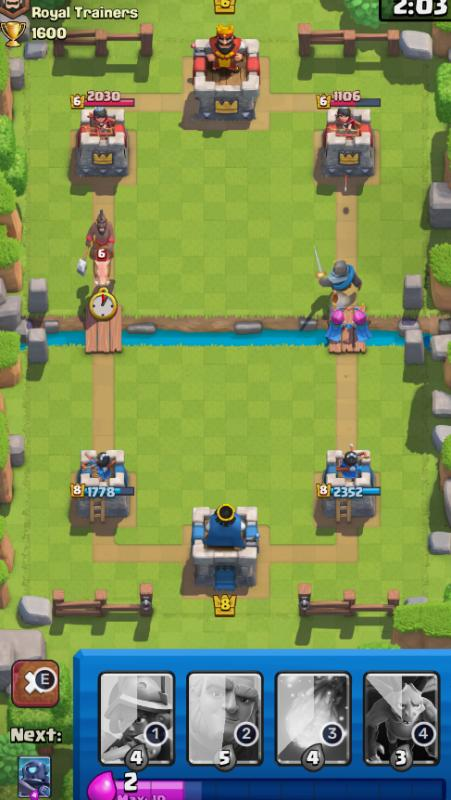archere: (317, 296, 357, 345), (350, 288, 373, 348)
chevalier: (321, 248, 373, 305)
